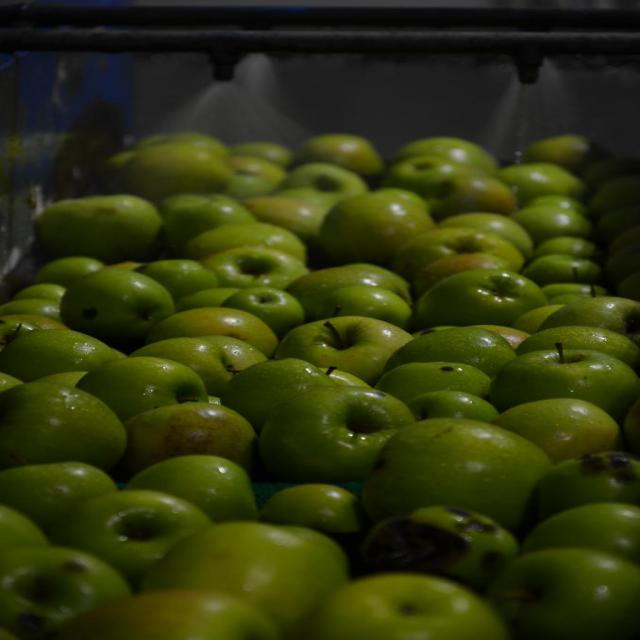Healty Apple: (0, 130, 639, 639), (289, 315, 410, 366)
